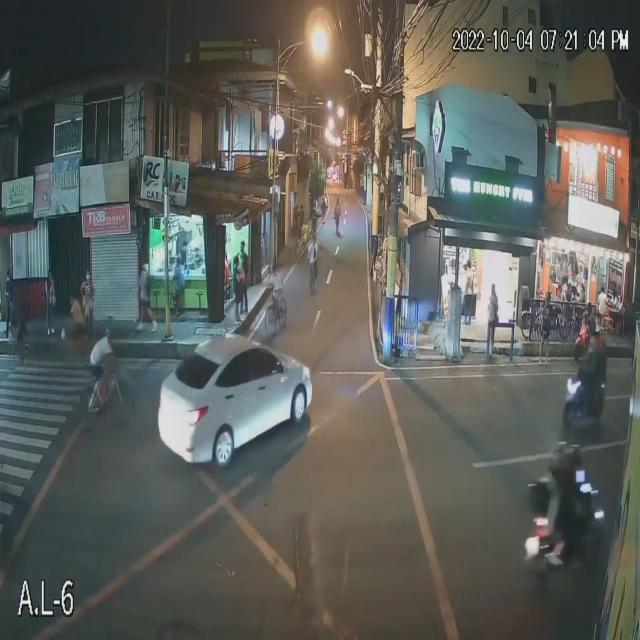Full-Faced: (584, 297, 596, 316)
